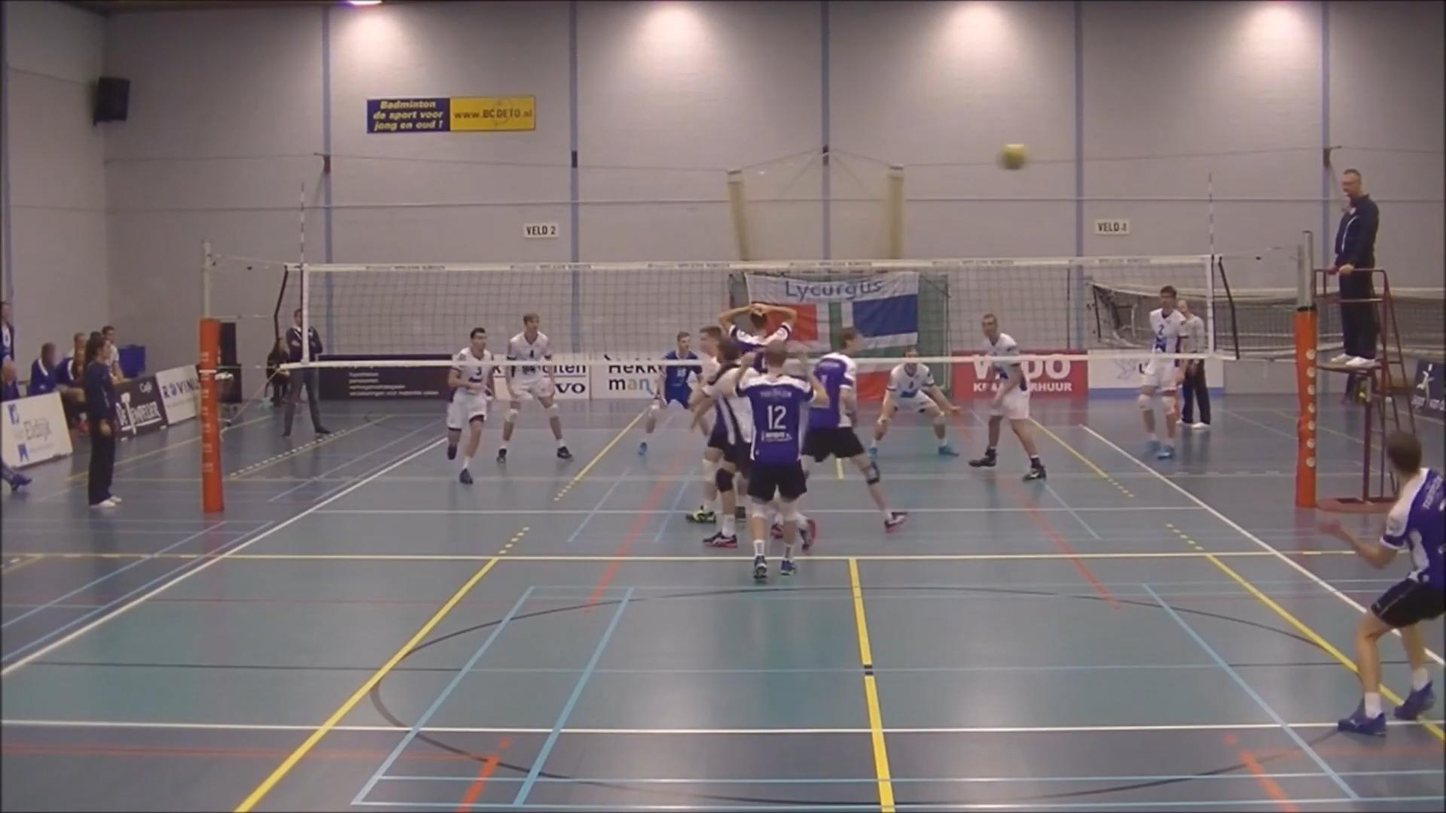Player: (722, 343, 828, 579), (803, 329, 906, 531), (969, 314, 1046, 480), (694, 339, 754, 547), (497, 313, 572, 462), (868, 348, 958, 456), (1137, 285, 1192, 458), (447, 327, 494, 484), (639, 363, 700, 455), (718, 303, 797, 371), (689, 324, 724, 437)
Serve: (1316, 428, 1446, 740)
ball: (997, 142, 1028, 170)
